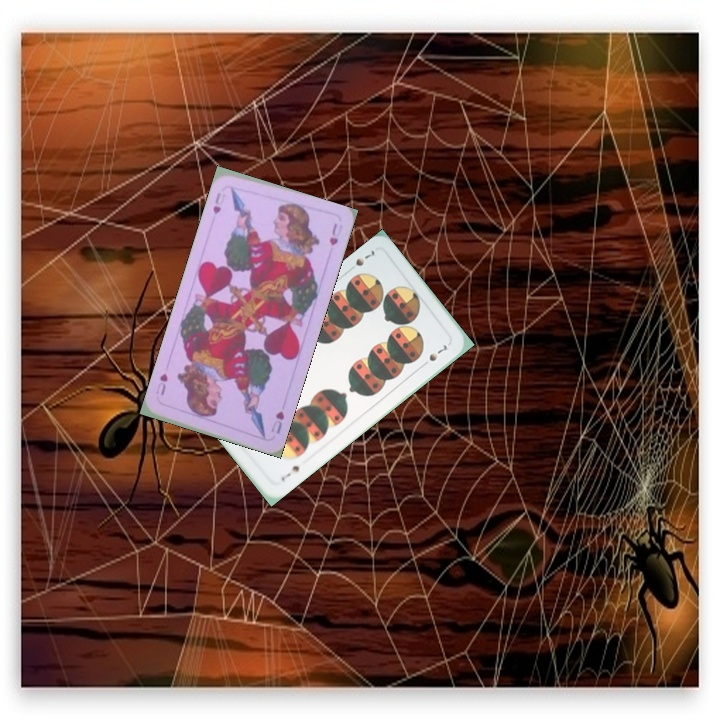HU: (267, 407, 287, 437), (209, 188, 223, 217)
S7: (344, 245, 377, 274), (277, 461, 302, 483)
